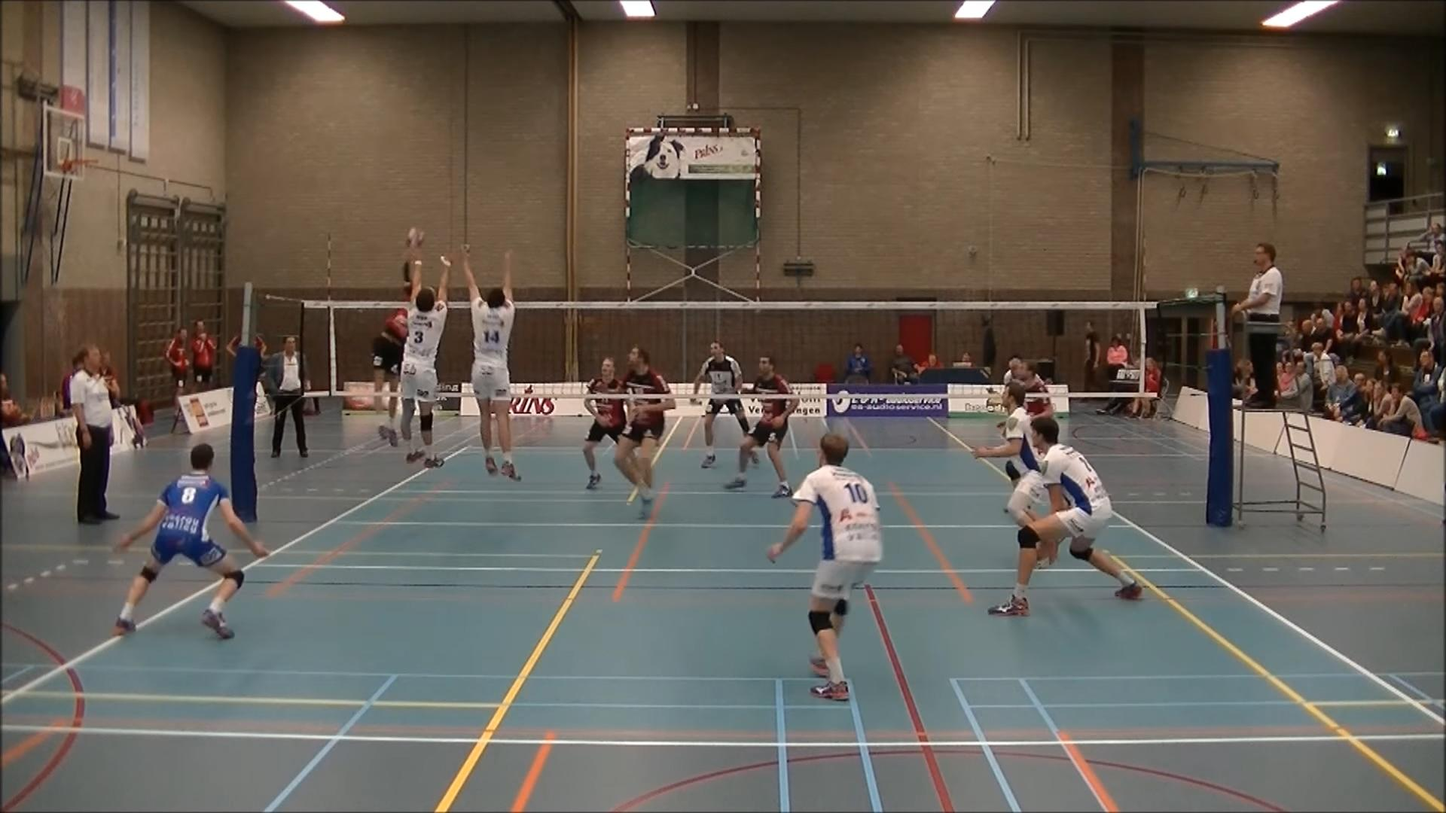attacco: (362, 239, 423, 452)
muro: (463, 248, 527, 482), (387, 260, 458, 470)
